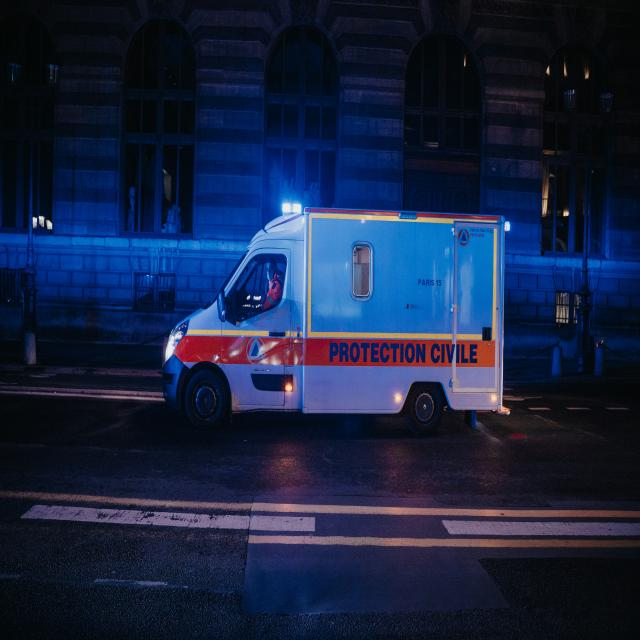emergency: (161, 208, 505, 433)
